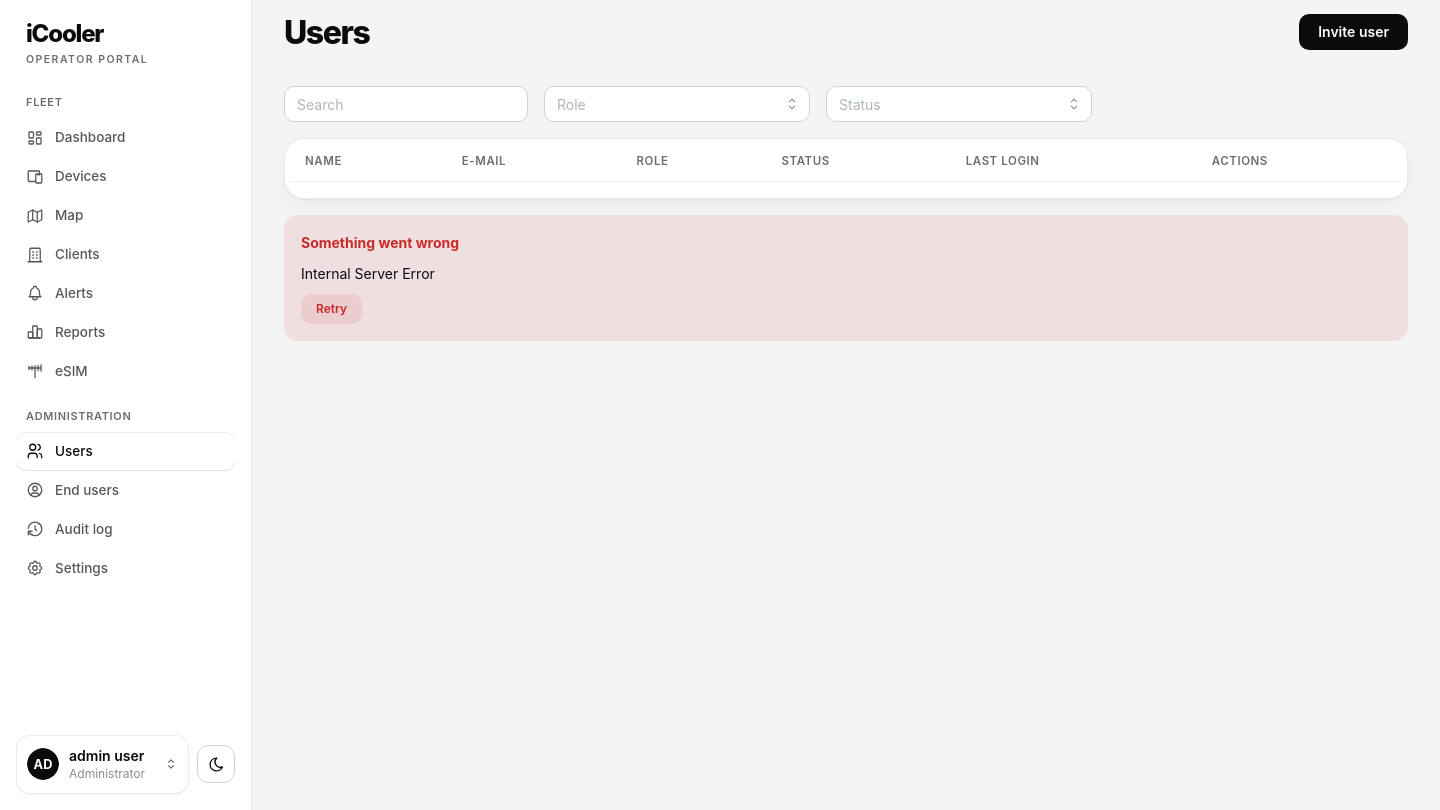
Test: смена сессии и ошибки › ошибка загрузки списка — сообщение и повтор, а не пустой список
Click the button "Retry".
click(332, 309)  # box [301, 294, 362, 324]
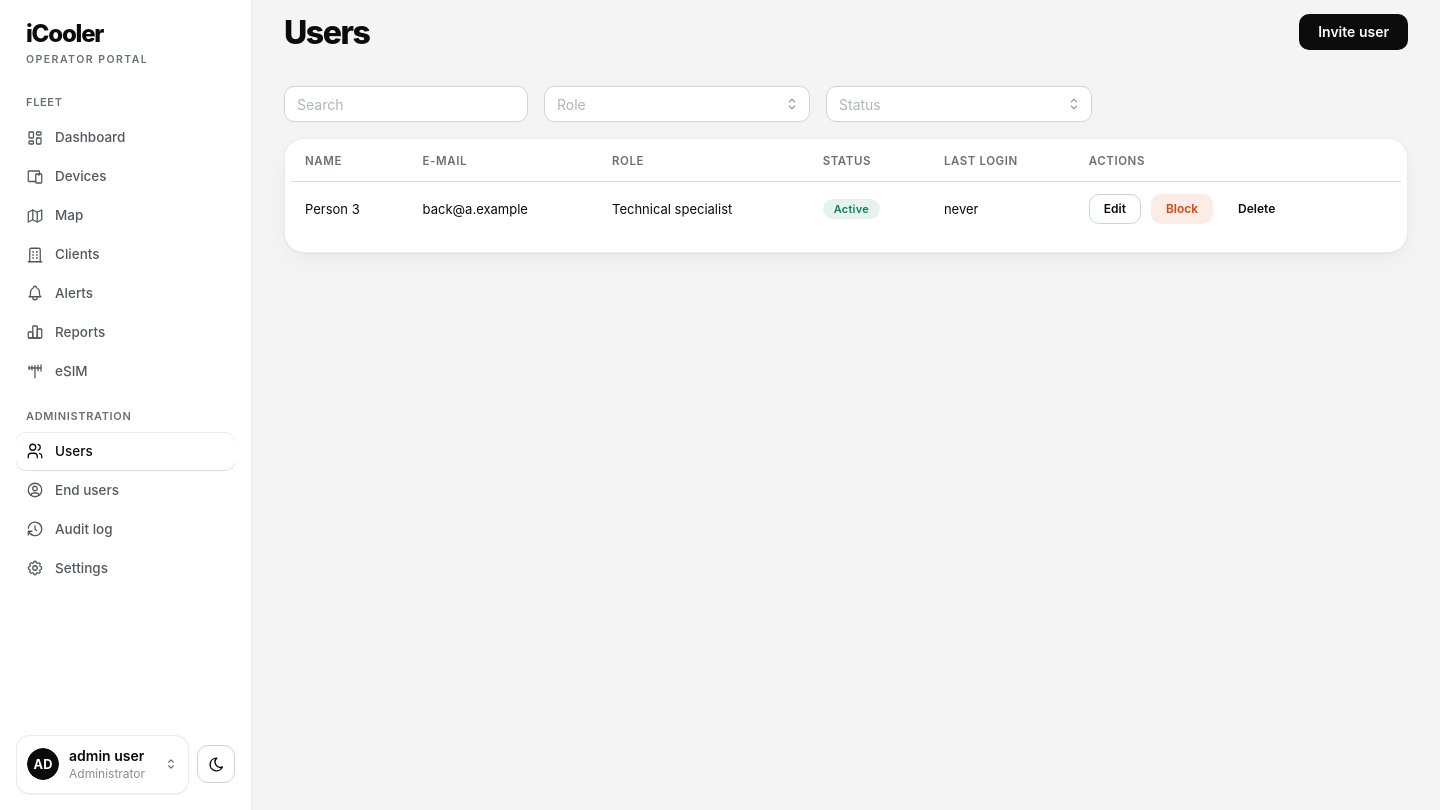
Check: the text "back@a.example" is shown, box [409, 181, 598, 236]
